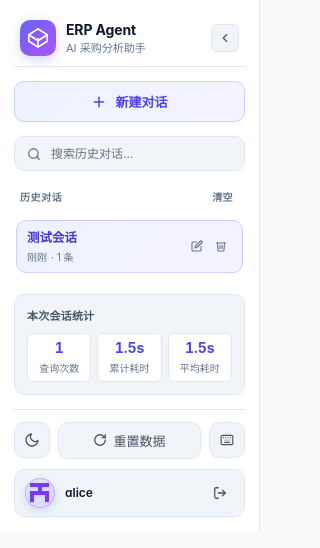
Test: Sidebar — rename session › enters edit mode via rename button
Click the button named "重命名对话" at point(197, 246), box [186,235,208,257]
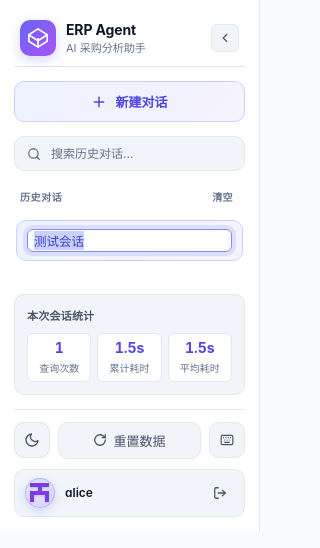
Check: the field with class "sidebar-history-item-edit" is shown, box [27,229,232,252]
